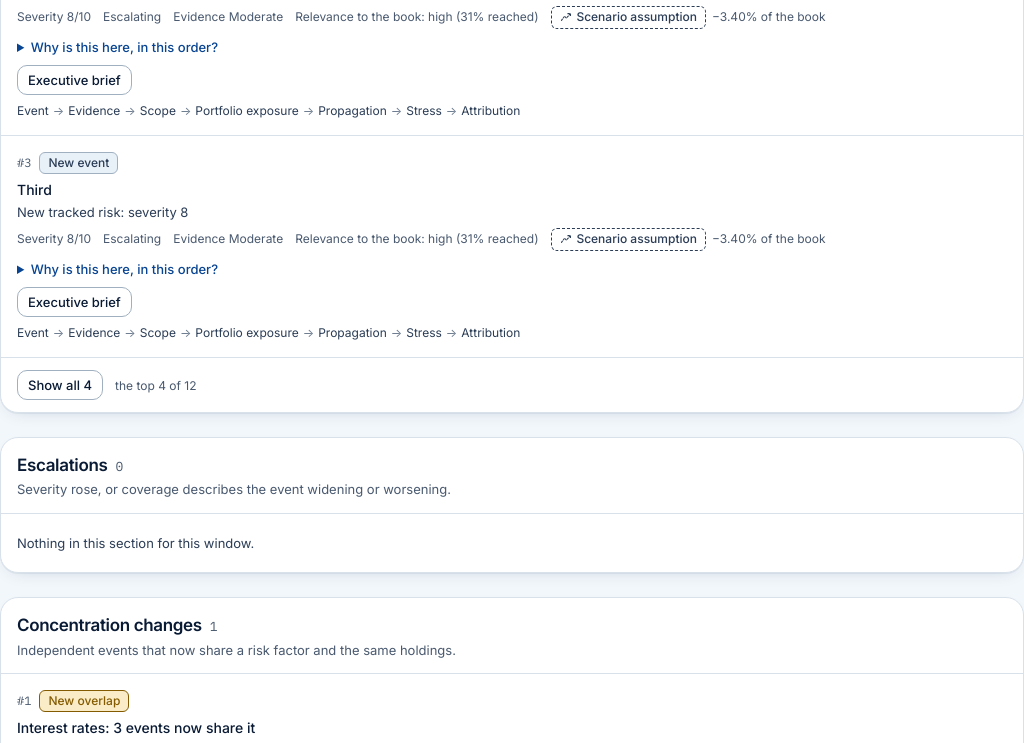
Test: TodayPage › lists only the top three of a section until asked for the rest
(page scrolled)
Click the button "Show all 4" at (60,385), box [17,370,103,400]
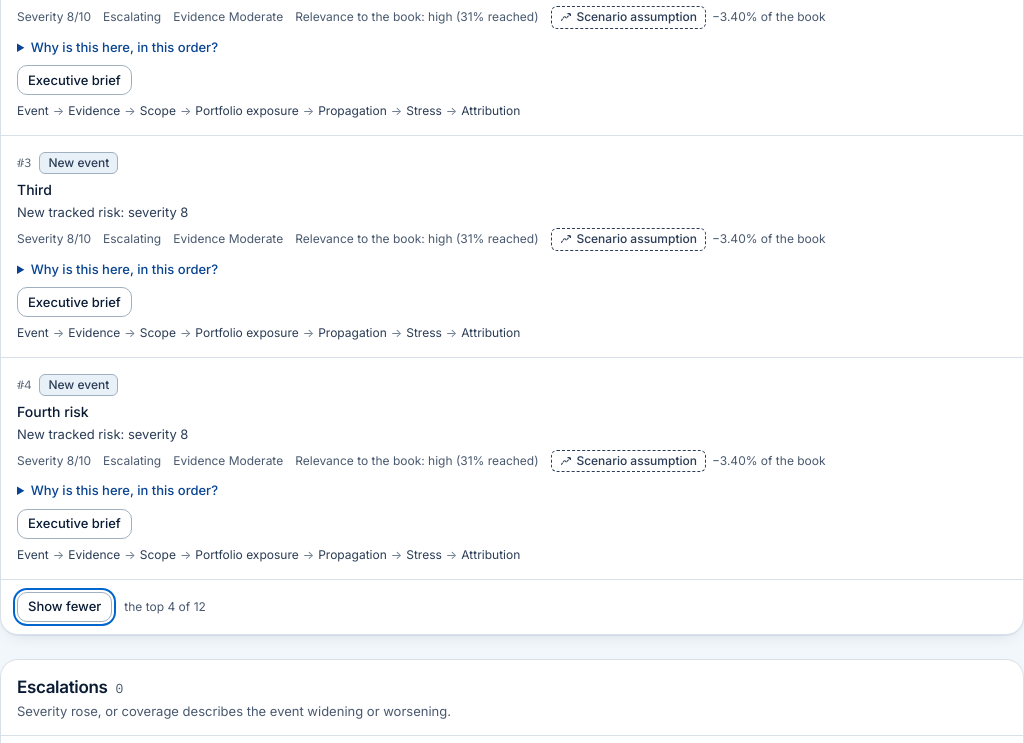
Expected: the text "the top 4 of 12" is shown, [124,599,206,614]
Now the link "Fourth risk" is shown, box [17,403,89,420]
